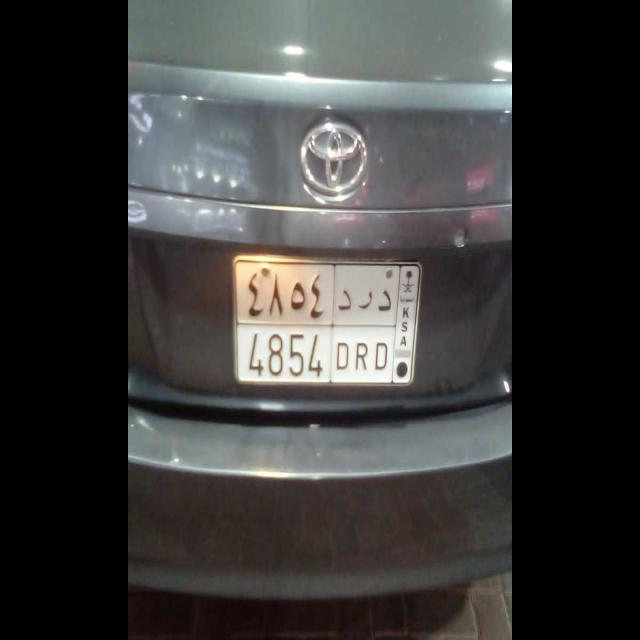license_plate: (234, 323, 392, 382)
